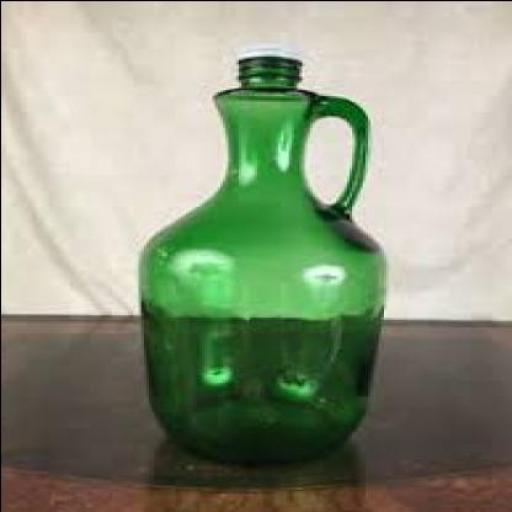glass: (142, 54, 391, 462)
